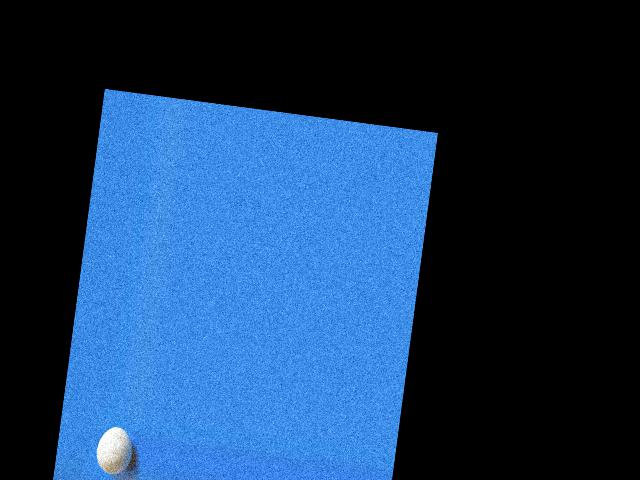egg: (94, 424, 135, 477)
